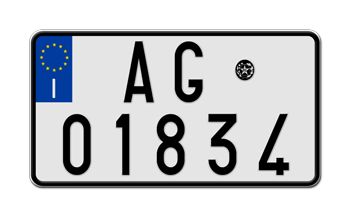number_plate: (38, 36, 315, 189)
